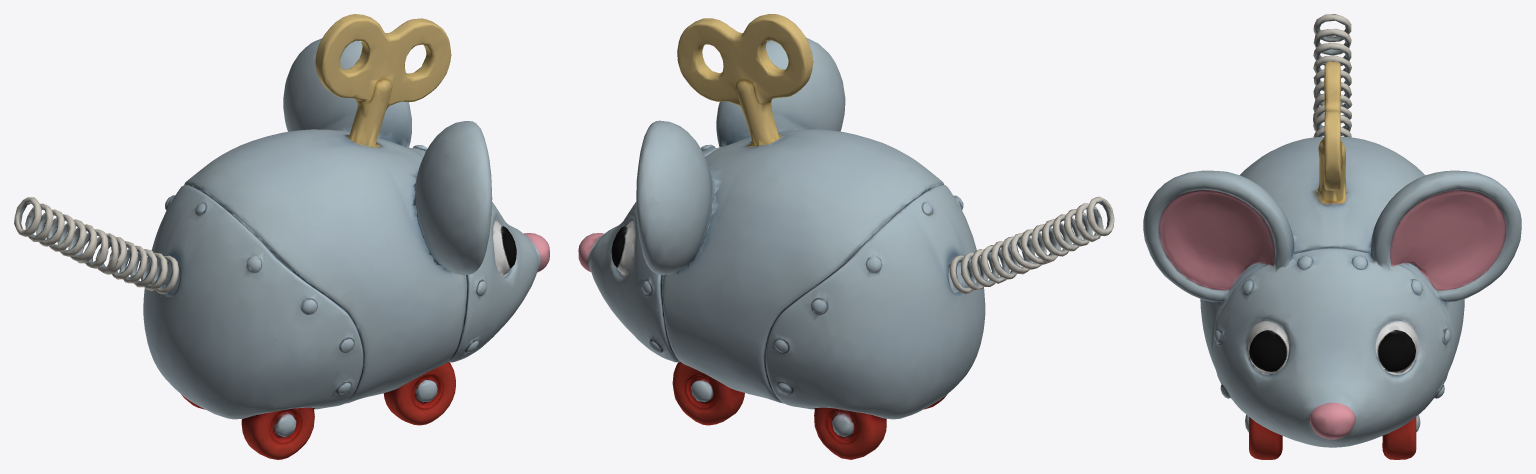
File: windup_mouse.glb
The picture shows the model from 3 angles, left to right: view 1: azimuth 30°, elevation 25°; view 2: azimuth 150°, elevation 25°; view 3: azimuth 270°, elevation 25°; orthographic projection. The views are drawn at different scales.
Visible parts, largest first — view 1: tripo_node_e1a05f46-2e75-46db-b4d2-5e20f826f3be; view 2: tripo_node_e1a05f46-2e75-46db-b4d2-5e20f826f3be; view 3: tripo_node_e1a05f46-2e75-46db-b4d2-5e20f826f3be.
Part boxes in pixels (bbox=[...]): tripo_node_e1a05f46-2e75-46db-b4d2-5e20f826f3be: bbox=[14, 14, 549, 459]; tripo_node_e1a05f46-2e75-46db-b4d2-5e20f826f3be: bbox=[578, 14, 1114, 459]; tripo_node_e1a05f46-2e75-46db-b4d2-5e20f826f3be: bbox=[1143, 14, 1521, 459].
Bounding box in the file's own units: 1 × 0.7007 × 0.638.
1 material, 1 textured.
